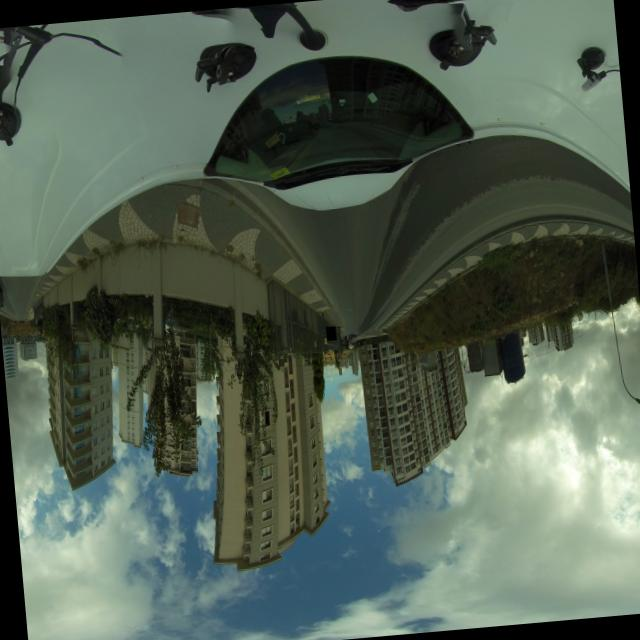SignStore: (324, 326, 335, 339)
